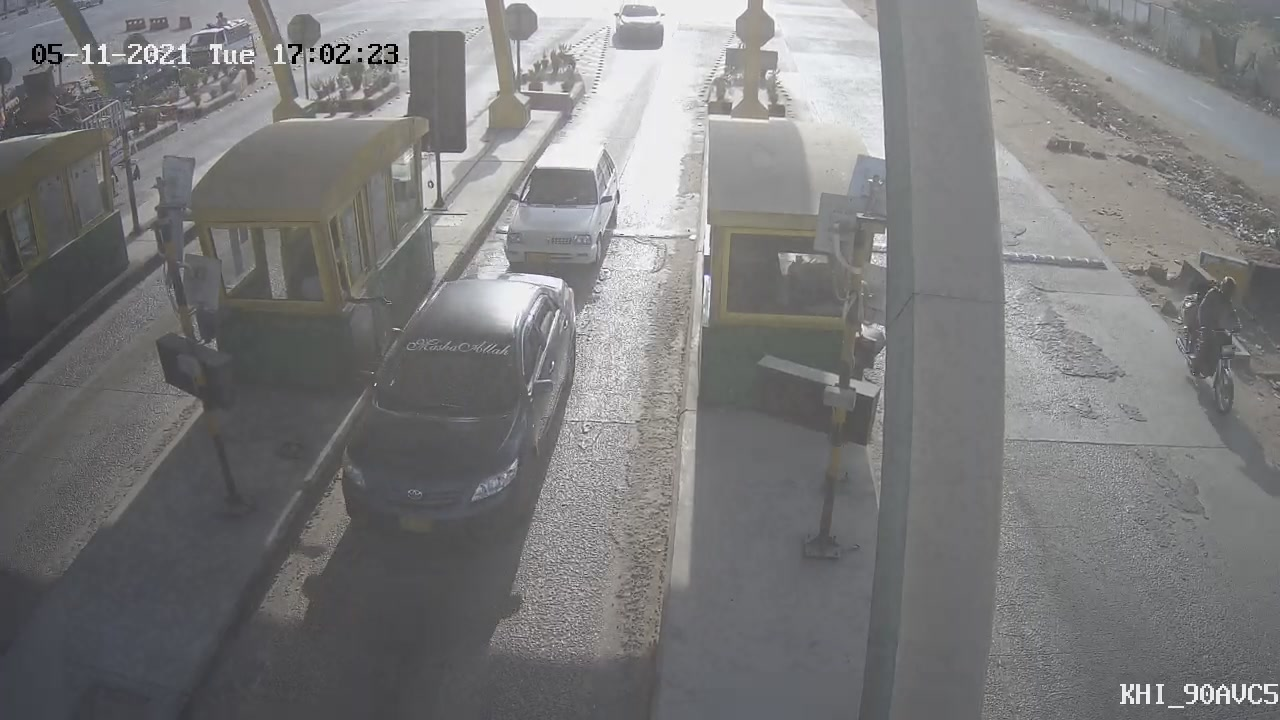F1: (314, 253, 601, 561), (478, 125, 644, 292)
